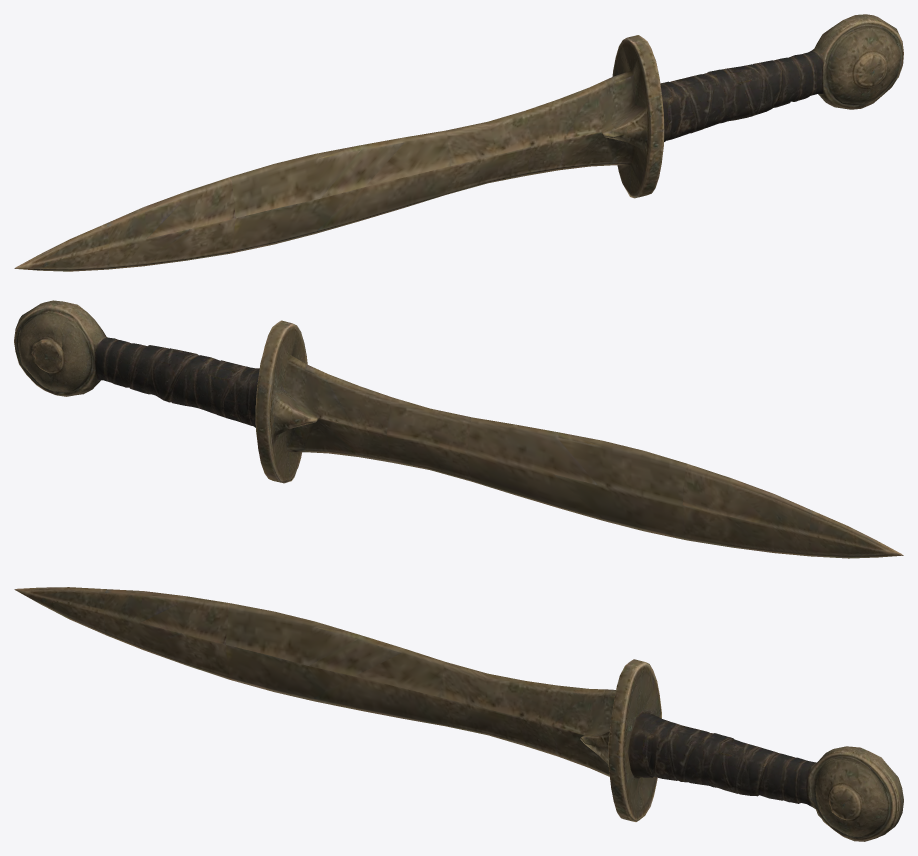
File: bronze-sword.glb
3 renders of one model, top to bottom at view 1: azimuth 30°, elevation 25°; view 2: azimuth 150°, elevation 25°; view 3: azimuth 330°, elevation 25°, orthographic.
Size of the model in its own units: 0.9565 by 0.1596 by 0.0777.
Materials: 1 (1 with a texture image).
